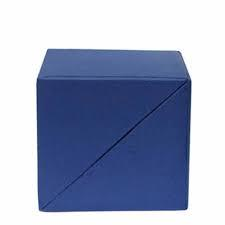cube: (37, 47, 190, 212)
